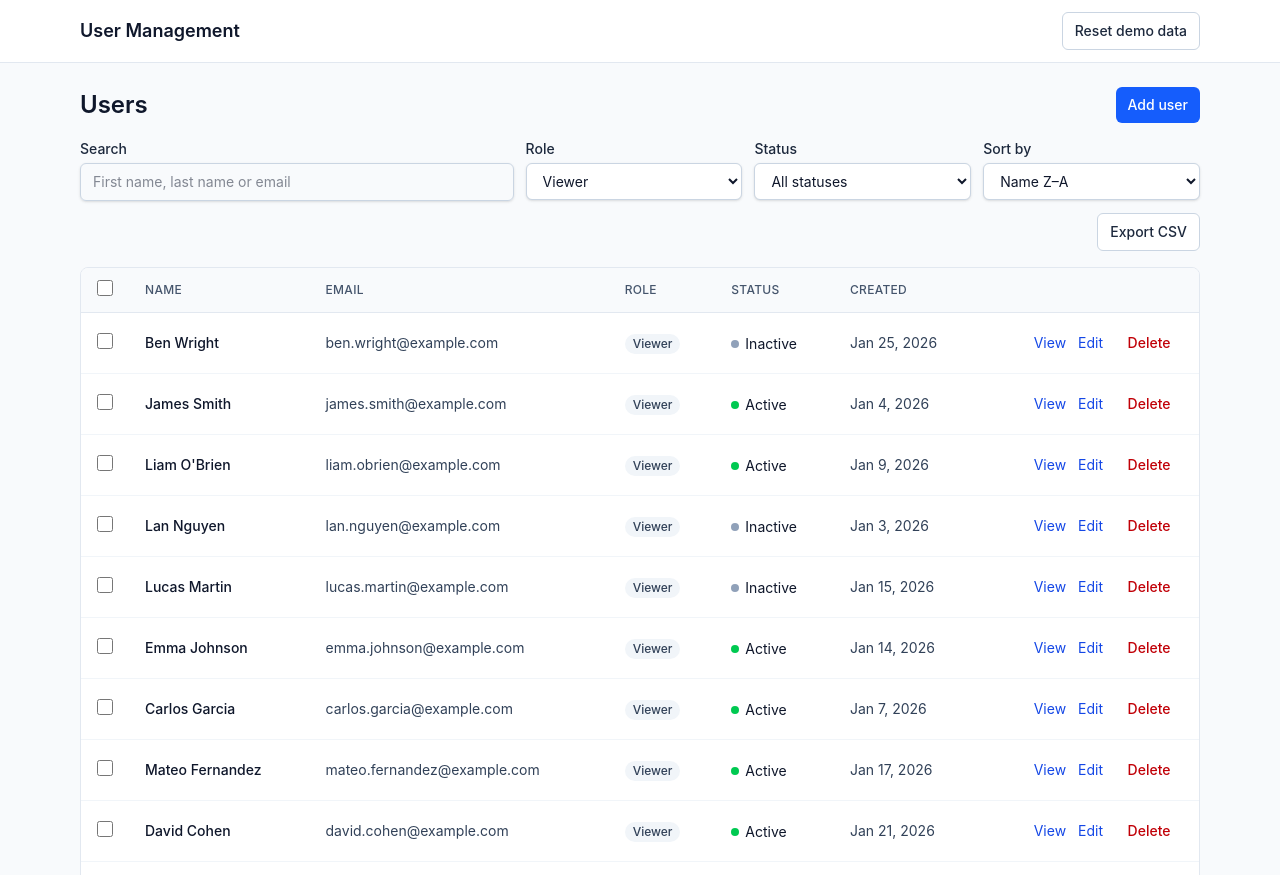
Delete user from the detail page › returns to the list with the last-used filters
Click the link with aria-label "View Ben Wright". click: (1050, 343)
box: x1=1034 y1=333 x2=1066 y2=353
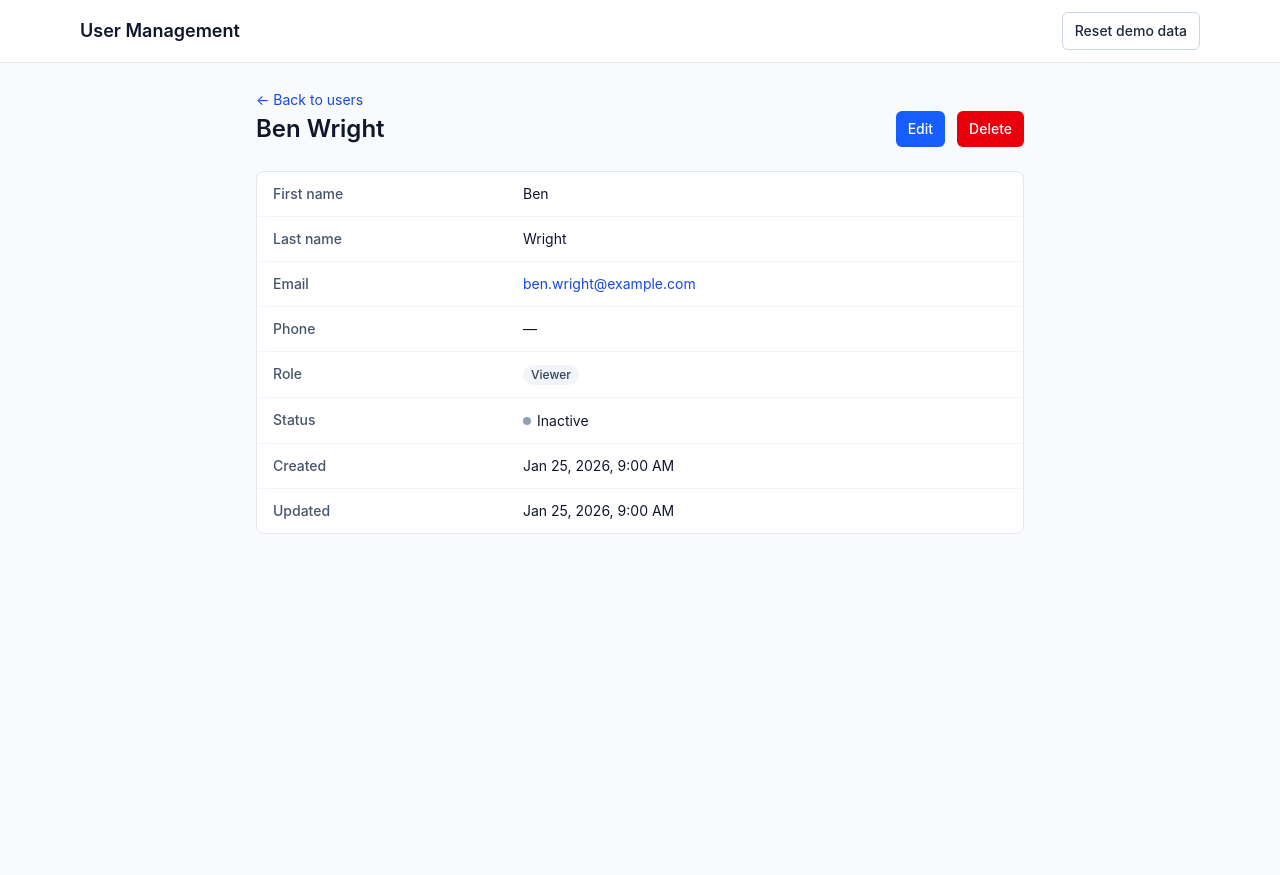
Now the heading "Ben Wright" is shown, box x1=256 y1=113 x2=384 y2=145
Click the button with aria-label "Delete Ben Wright". click: (991, 129)
box: x1=957 y1=111 x2=1024 y2=147
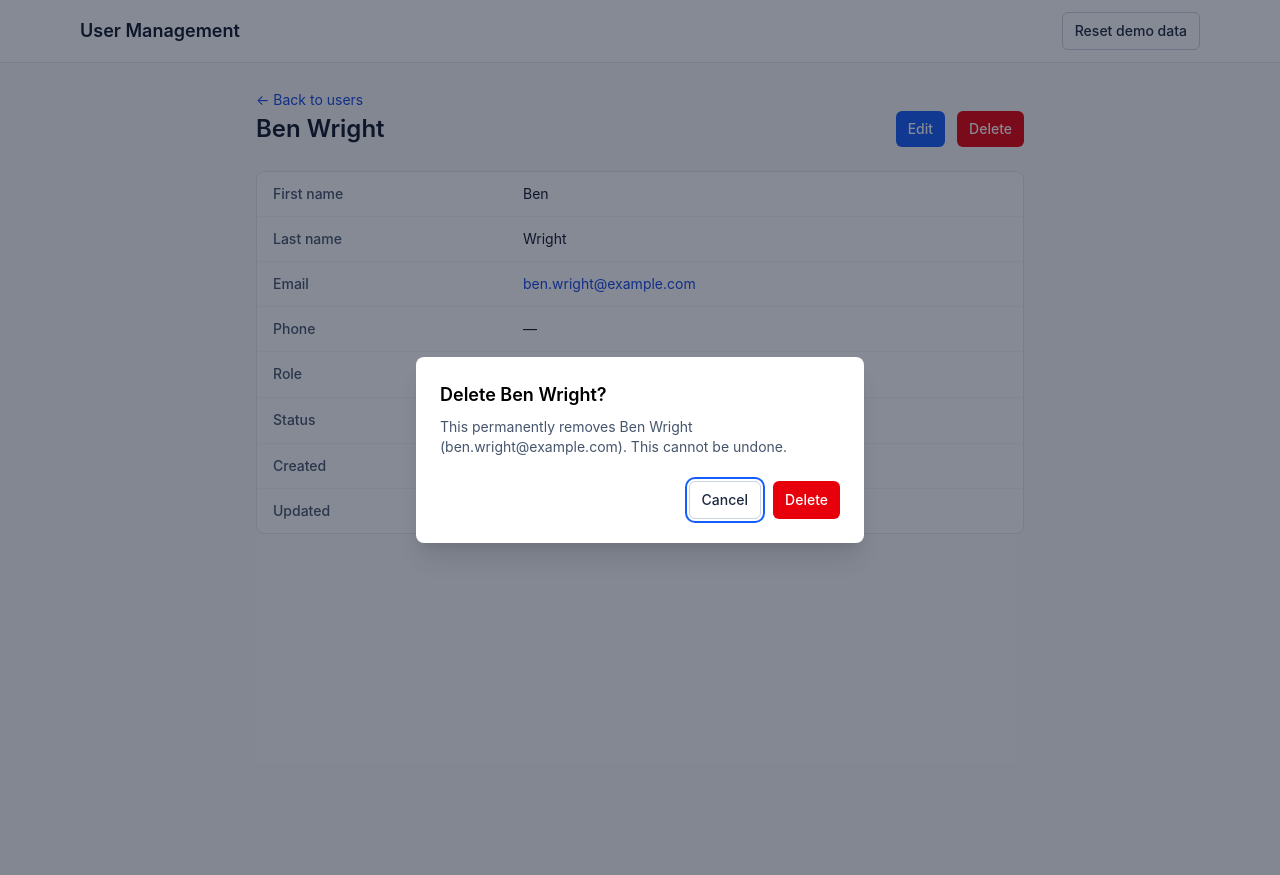
Click the button "Delete". click: (807, 500)
box: x1=773 y1=481 x2=840 y2=519
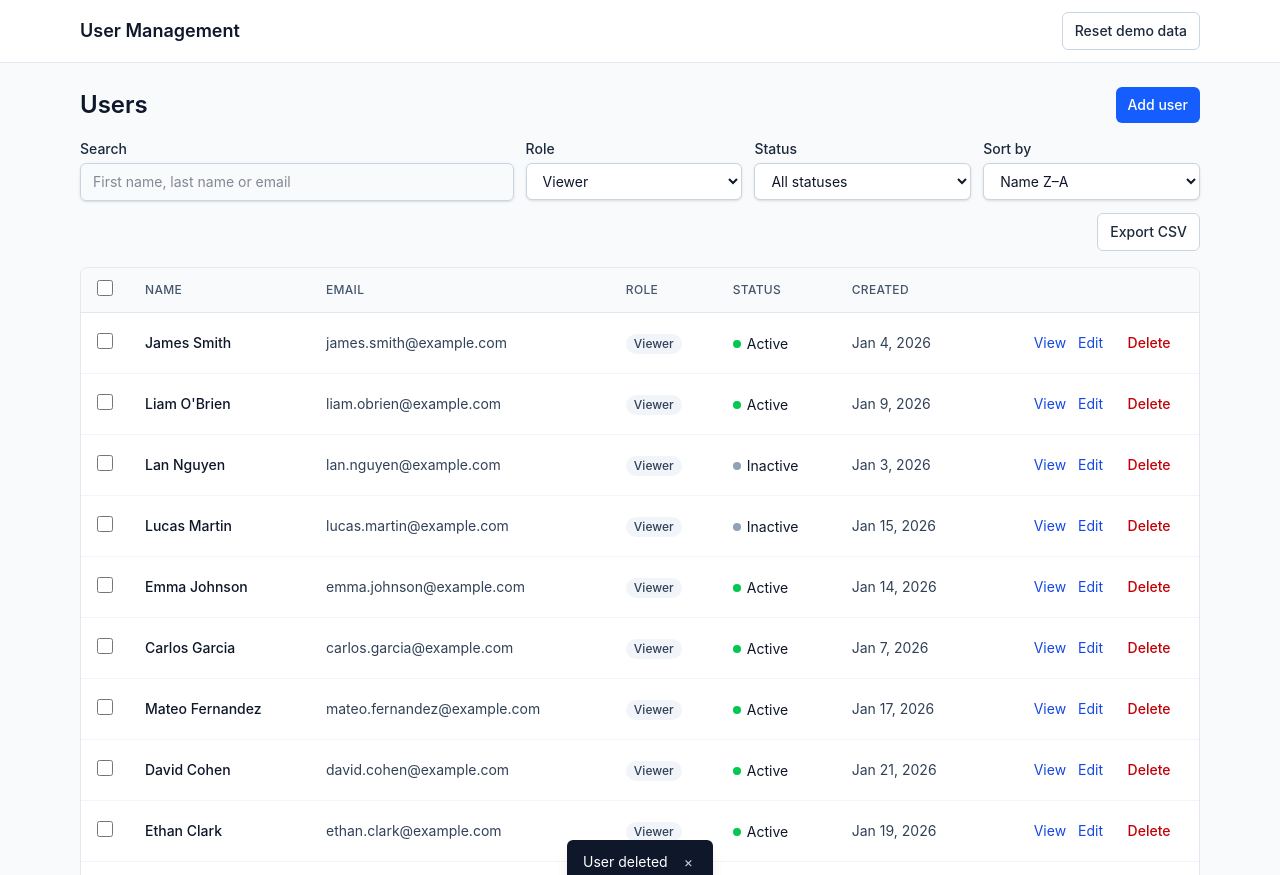
Now the heading "Ben Wright" no longer shows "Ben Wright"
Now the message named "Notifications" shows "User deleted", box x1=583 y1=853 x2=668 y2=870
